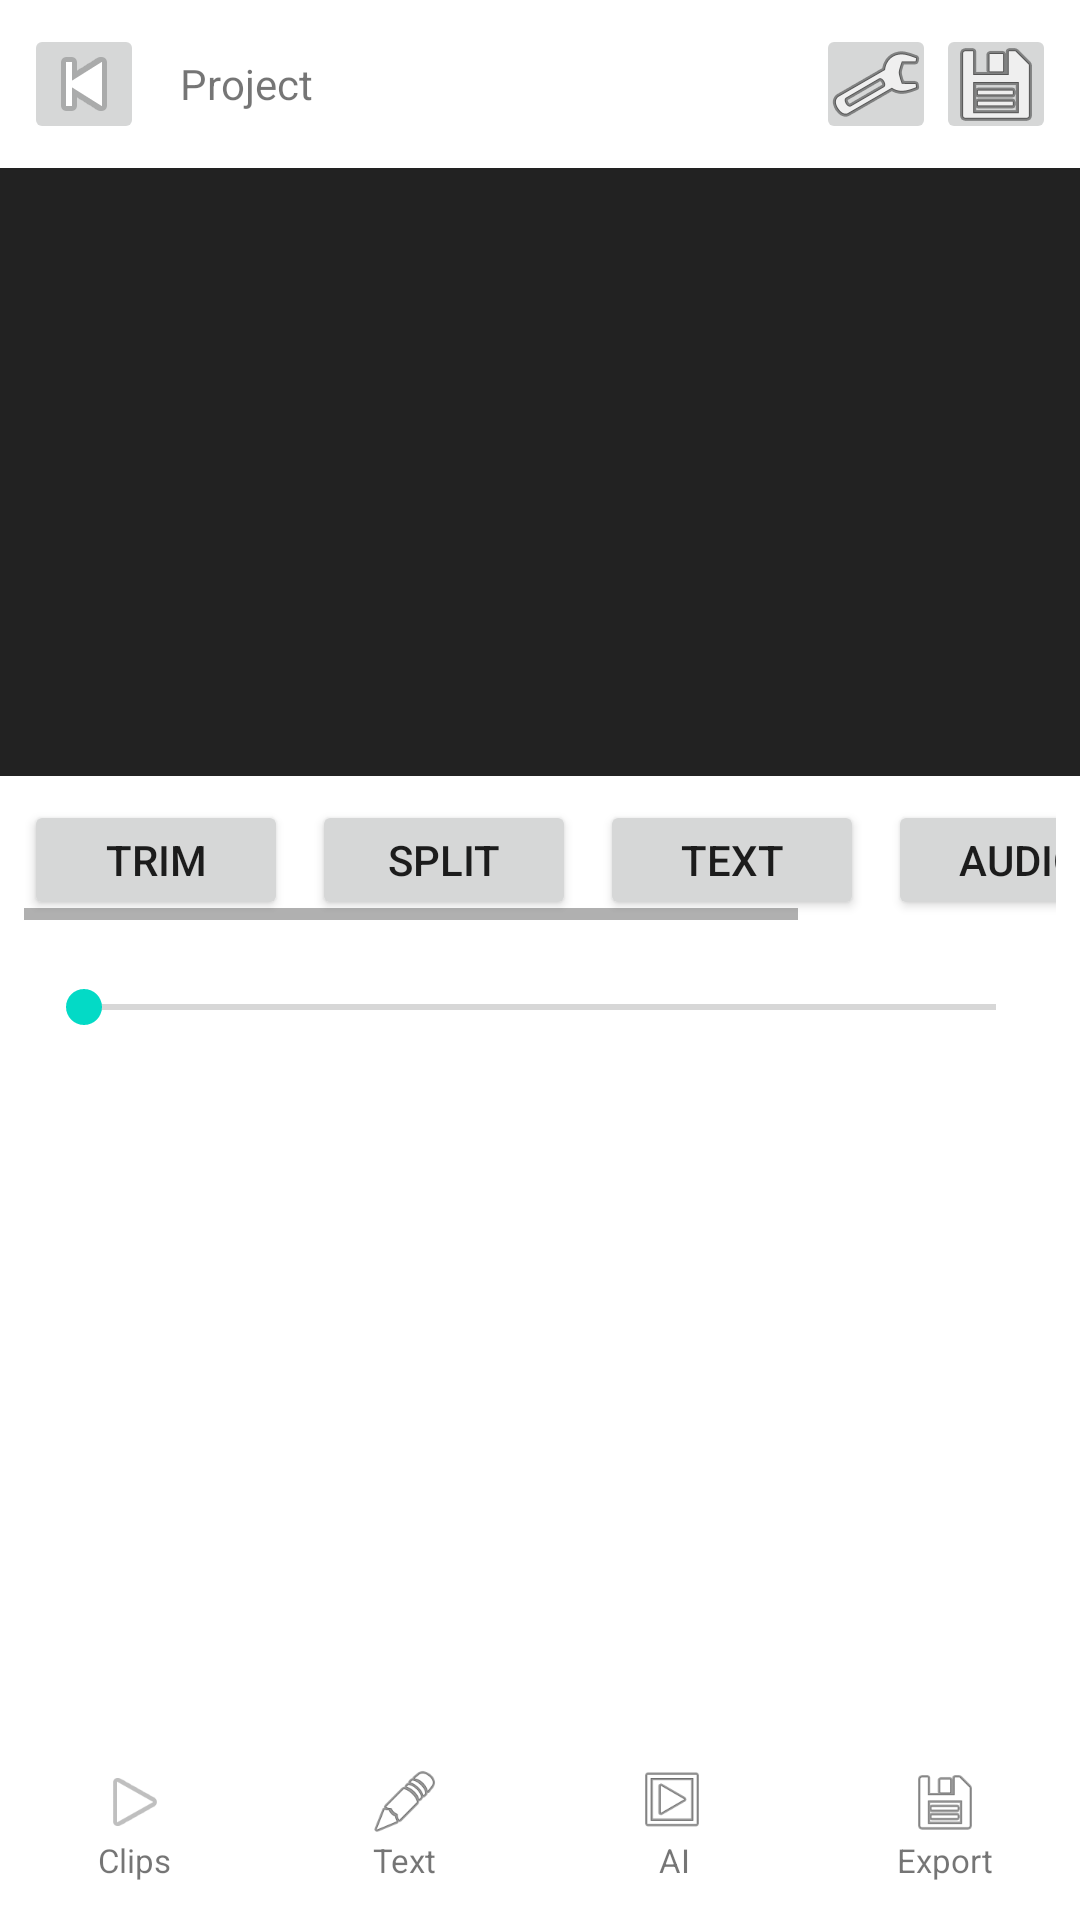

Icons on this 1080x1920 Android screen, each with its box as (x1=x1, y1=y1, x2=x2, y2=y2):
Back: (x1=36, y1=42, x2=132, y2=126)
edit: (x1=374, y1=1771, x2=435, y2=1832)
play: (x1=113, y1=1778, x2=157, y2=1826)
slideshow: (x1=645, y1=1772, x2=699, y2=1827)
